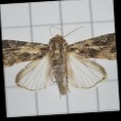Spodoptera litura: (3, 25, 117, 100)
